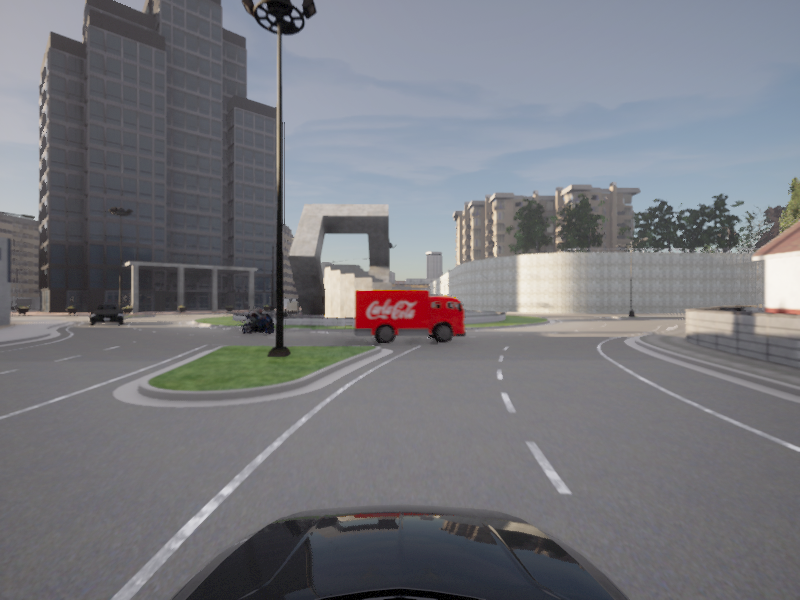vehicle: (353, 289, 469, 345), (237, 308, 279, 336), (89, 303, 124, 327)
